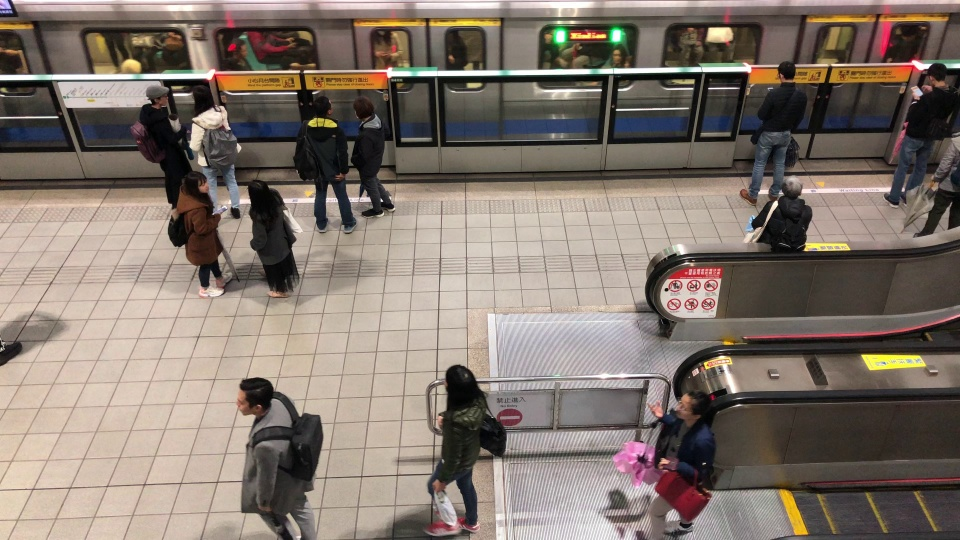person_head: (437, 365, 482, 408), (227, 376, 272, 416), (673, 391, 714, 428), (178, 170, 211, 204), (243, 176, 272, 207), (351, 94, 377, 123), (143, 84, 170, 111), (190, 82, 216, 110), (307, 94, 334, 118), (780, 174, 807, 197), (923, 64, 947, 88), (773, 62, 798, 85)
person_vbox: (215, 376, 328, 540), (604, 390, 723, 540), (405, 366, 508, 538), (882, 63, 957, 212), (736, 62, 811, 209), (157, 169, 239, 301), (284, 94, 359, 235), (238, 176, 308, 301), (128, 83, 195, 211), (186, 82, 246, 220), (344, 94, 399, 221), (905, 122, 960, 243), (736, 174, 812, 255)
